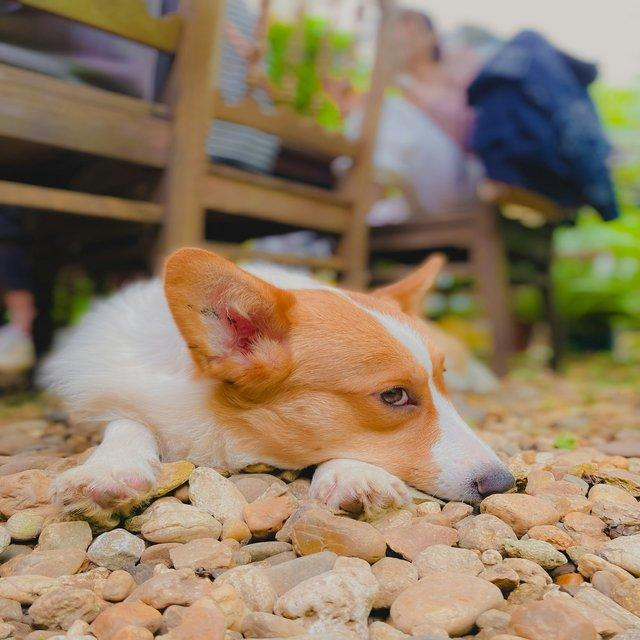corgi: (32, 244, 516, 518)
